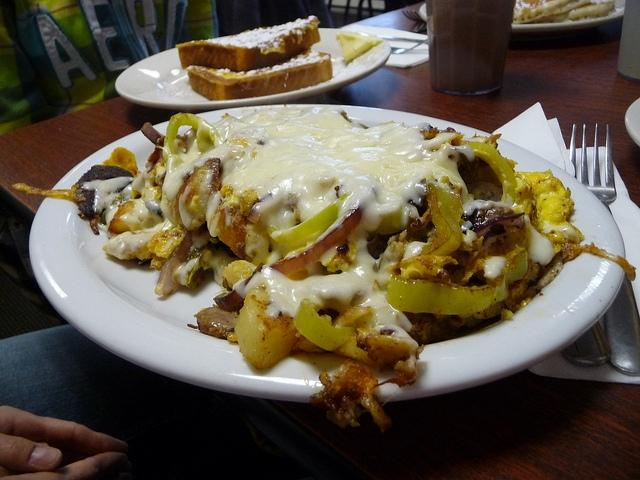potato: (235, 286, 299, 372), (333, 335, 409, 370), (294, 334, 328, 353)
